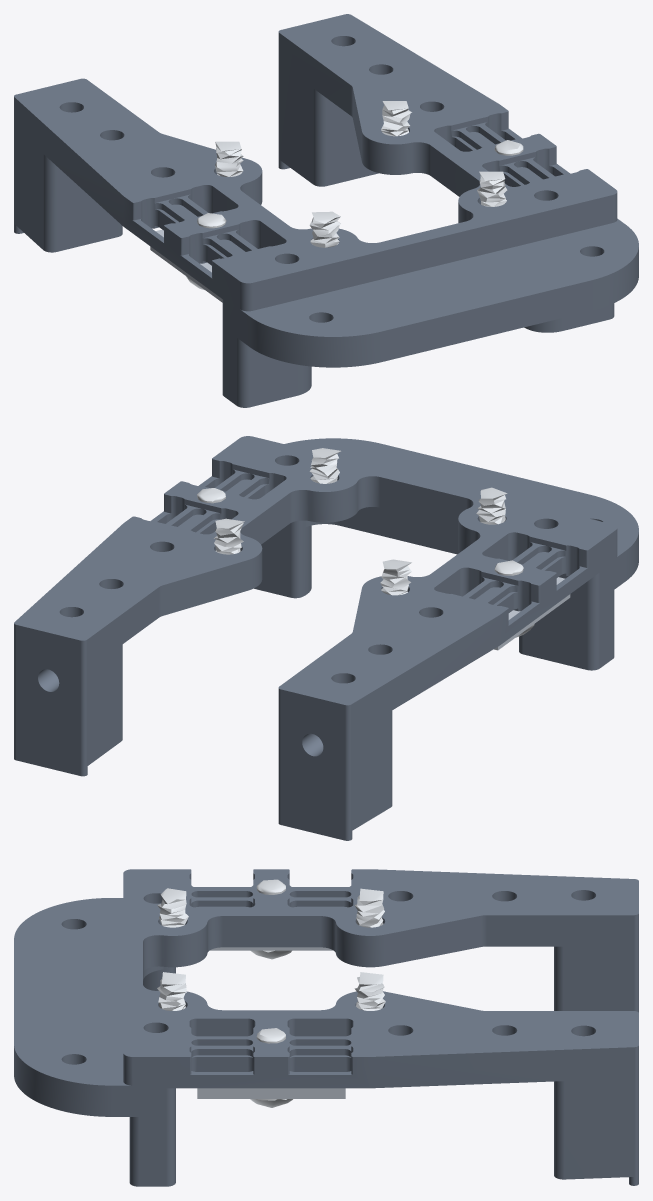
The picture shows the model from 3 angles, top to bottom: view 1: azimuth 30°, elevation 25°; view 2: azimuth 150°, elevation 25°; view 3: azimuth 270°, elevation 25°; orthographic projection. The views are drawn at different scales.
Visible parts, largest first — view 1: siboor_cnc_carriage_body, siboor_carriage_fastener_2, siboor_carriage_fastener_6, siboor_carriage_fastener_0, siboor_carriage_fastener_1; view 2: siboor_cnc_carriage_body, siboor_carriage_fastener_0, siboor_carriage_fastener_2, siboor_carriage_fastener_1, siboor_carriage_fastener_6; view 3: siboor_cnc_carriage_body, siboor_cnc_belt_clamp_5, siboor_carriage_fastener_6, siboor_carriage_fastener_0, siboor_carriage_fastener_2, siboor_carriage_fastener_1, siboor_carriage_fastener_8, siboor_carriage_fastener_4, siboor_cnc_belt_clamp_7.
Boxes of the visible parts, x1,y1,x2,y2 form: siboor_cnc_carriage_body: (14,14,638,407); siboor_carriage_fastener_2: (309,211,340,247); siboor_carriage_fastener_6: (381,101,411,136); siboor_carriage_fastener_0: (215,141,243,176); siboor_carriage_fastener_1: (477,171,507,206); siboor_cnc_carriage_body: (14,436,638,840); siboor_carriage_fastener_0: (380,559,411,595); siboor_carriage_fastener_2: (476,487,507,524); siboor_carriage_fastener_1: (309,448,340,483); siboor_carriage_fastener_6: (214,518,244,554); siboor_cnc_carriage_body: (14,869,638,1186); siboor_cnc_belt_clamp_5: (197,1088,345,1098); siboor_carriage_fastener_6: (354,972,385,1010); siboor_carriage_fastener_0: (354,888,384,927); siboor_carriage_fastener_2: (157,888,188,927); siboor_carriage_fastener_1: (157,972,186,1010); siboor_carriage_fastener_8: (250,879,291,959); siboor_carriage_fastener_4: (250,1028,292,1107); siboor_cnc_belt_clamp_7: (210,947,333,950).
Bounding box in the file's own units: 0.045 × 0.0185 × 0.0633.
